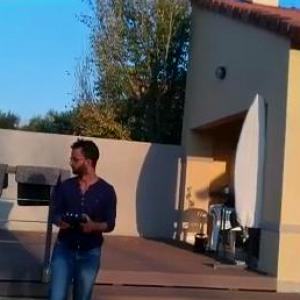follow: (42, 134, 121, 299)
